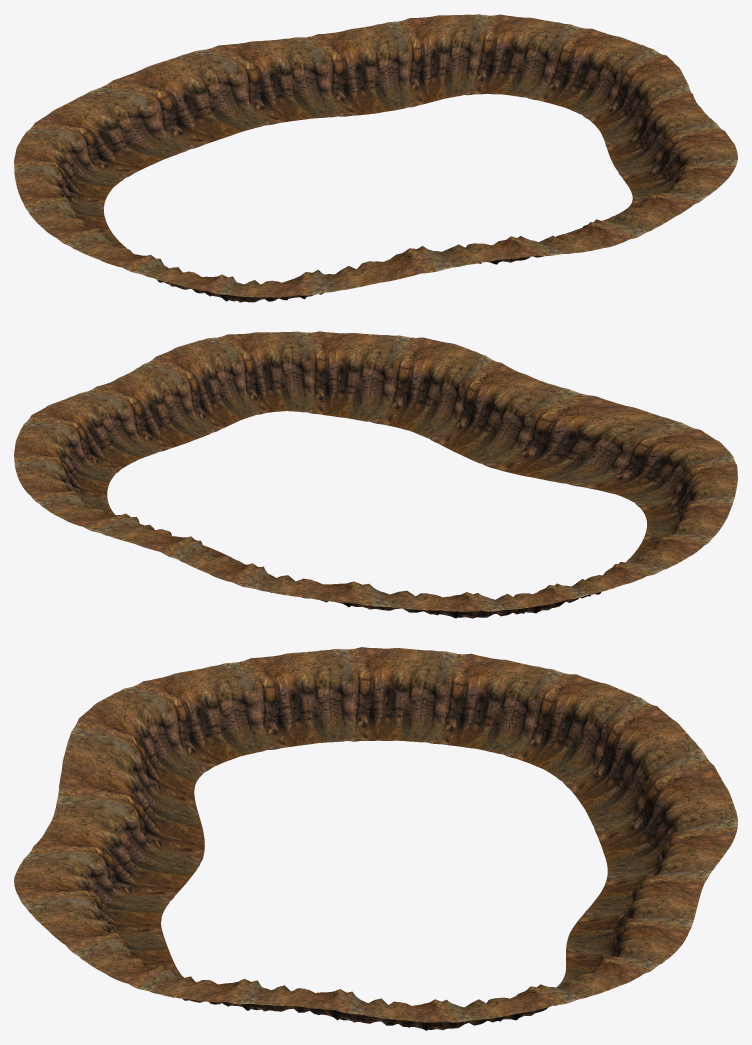
File: crater_walls.dae
The picture shows the model from 3 angles, top to bottom: view 1: azimuth 30°, elevation 25°; view 2: azimuth 150°, elevation 25°; view 3: azimuth 270°, elevation 25°; orthographic projection. The views are drawn at different scales.
Visible parts, largest first — view 1: large_crater_walls; view 2: large_crater_walls; view 3: large_crater_walls.
Part boxes in pixels (bbox=[...]): large_crater_walls: bbox=[14, 14, 737, 302]; large_crater_walls: bbox=[14, 331, 737, 618]; large_crater_walls: bbox=[14, 647, 737, 1030].
Bounding box in the file's own units: 173 × 141 × 10.42.
1 material, 1 textured.
